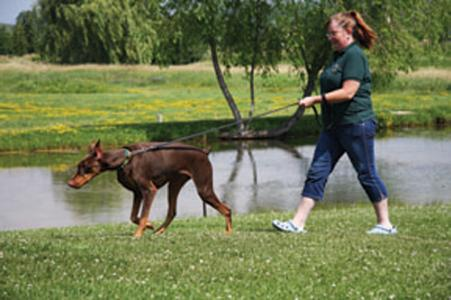person: (275, 11, 395, 234)
